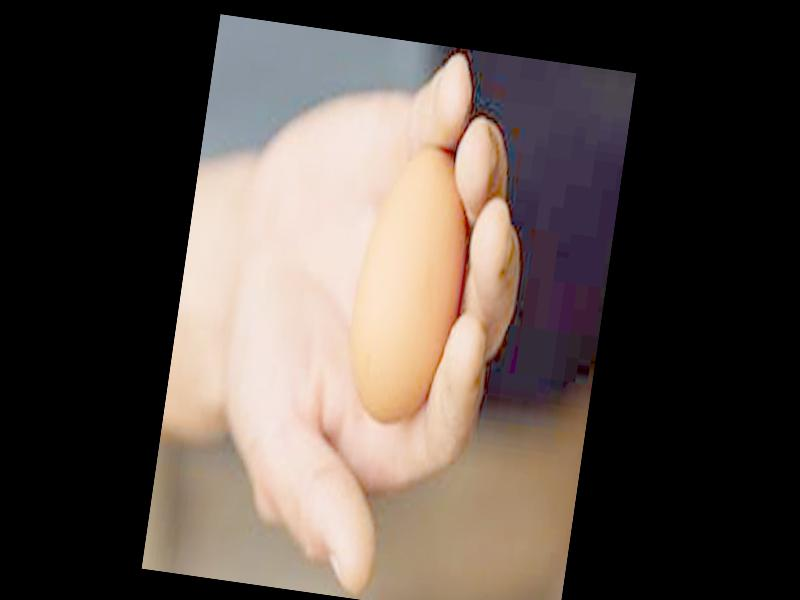Eggs: (339, 138, 477, 428)
